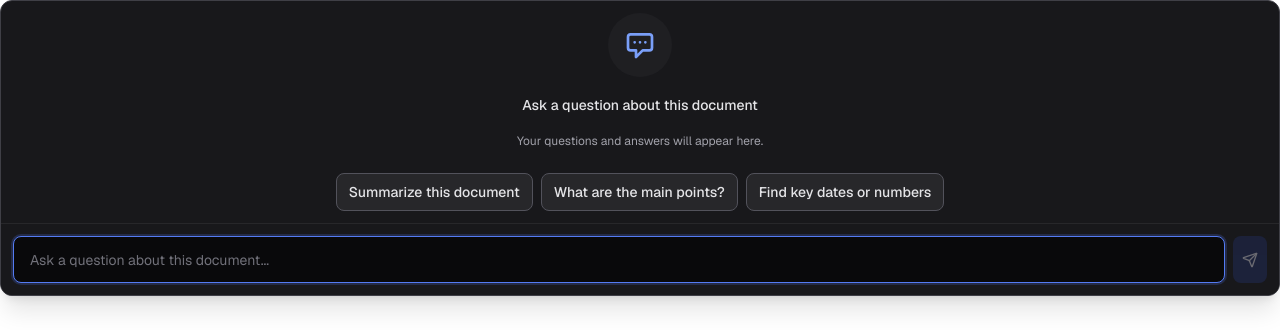
Scenario: ChatWindow streaming lifecycle › appends streaming errors without duplicating assistant bubbles
The width and height of the screenshot is (1280, 330).
Type "Trigger error" into the text box with placeholder "Ask a question about this document..." at (619, 260), box [13,236,1225,283]
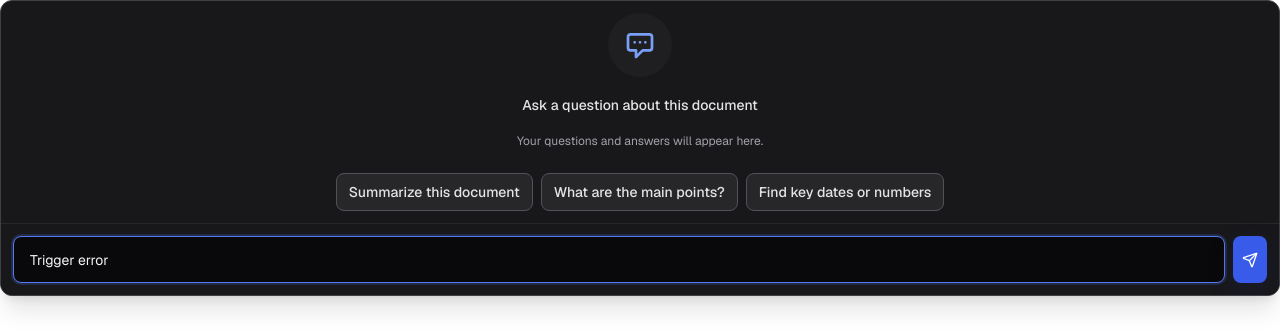
Click the button named "Send message" at (1250, 260), box [1233,236,1267,283]
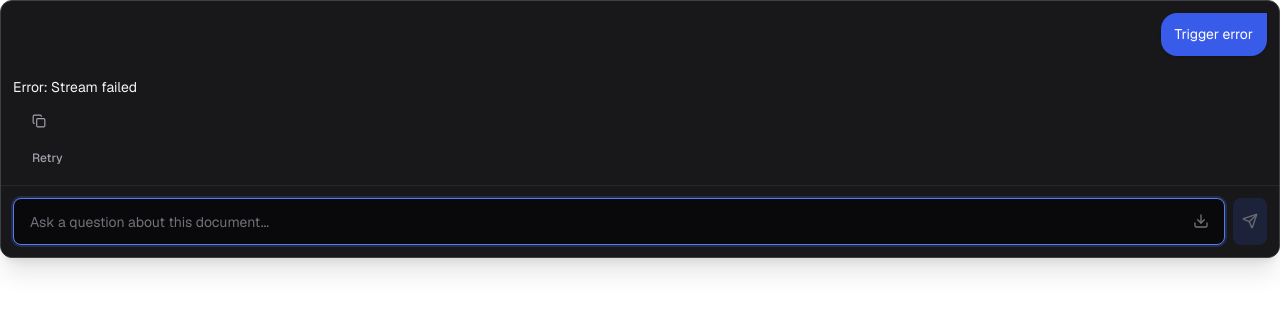
expect the text "Error: Stream failed" is shown: met, box [13,78,137,96]
expect the button "Retry" is shown: met, box [21,142,74,172]
expect the number of elements with test id "message-row-assistant" is 1: met, box [13,78,137,173]
